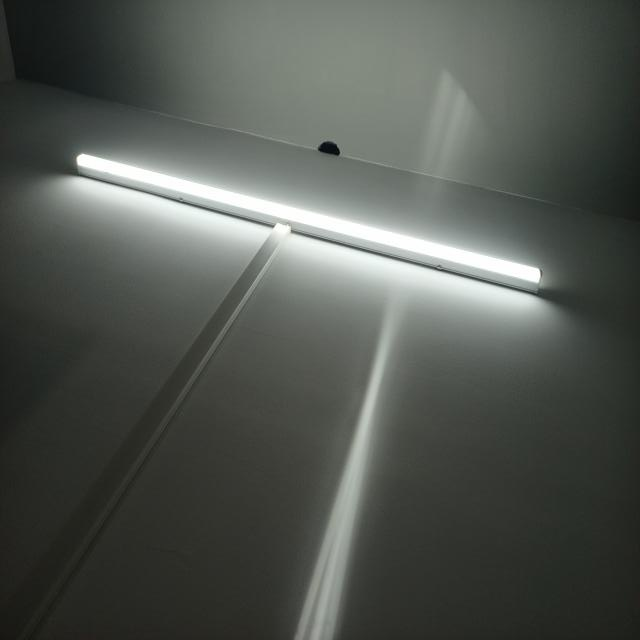fluorescent tube: (67, 138, 557, 310)
